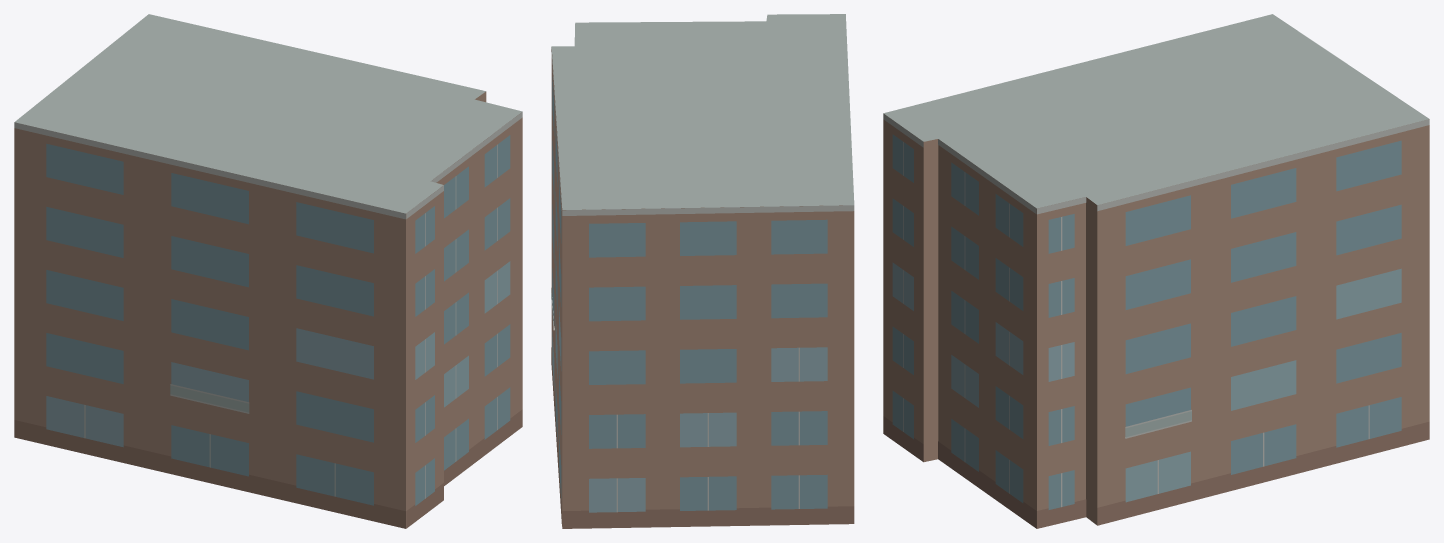
File: survey-upis-32955006.glb
3 renders of one model, left to right at view 1: azimuth 30°, elevation 25°; view 2: azimuth 150°, elevation 25°; view 3: azimuth 270°, elevation 25°, orthographic.
Visible parts, largest first — view 1: survey-upis-32955006.tmp; view 2: survey-upis-32955006.tmp; view 3: survey-upis-32955006.tmp.
Part boxes in pixels (left/top/right/bottom): survey-upis-32955006.tmp: left=14, top=14, right=522, bottom=528; survey-upis-32955006.tmp: left=551, top=14, right=854, bottom=528; survey-upis-32955006.tmp: left=883, top=14, right=1429, bottom=528.
Size of the model in its own units: 17.06 by 13.1 by 20.26.
